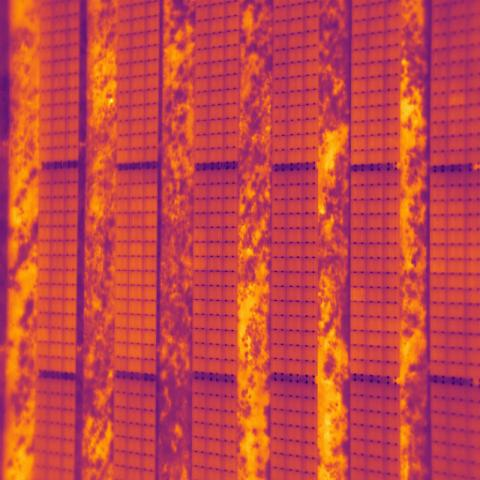fault: (449, 91, 465, 106)
